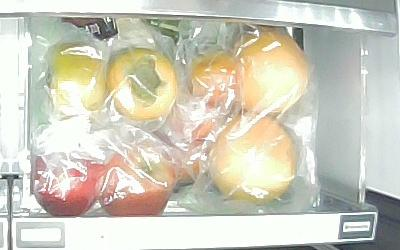apple_vinyl: (98, 142, 173, 216), (32, 146, 99, 217)
grapefruit_vinyl: (210, 114, 297, 206), (227, 29, 311, 115)
persimmon_vinyl: (107, 48, 178, 121), (47, 42, 105, 116)
